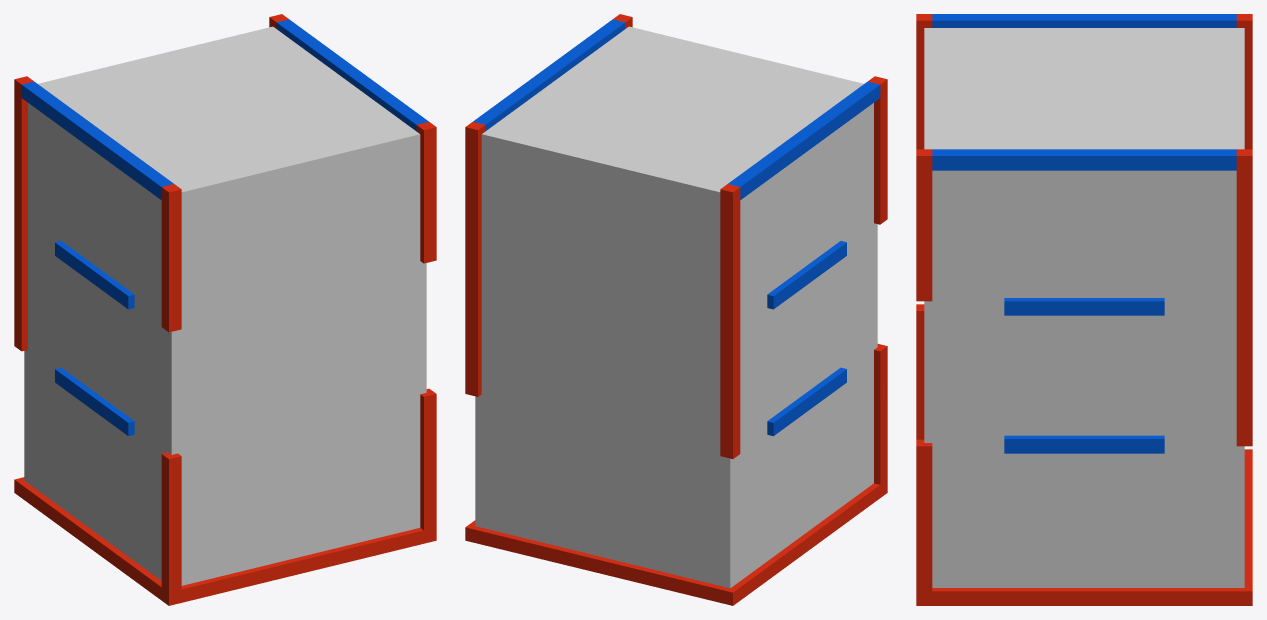
File: level_1.fbx
3 views of the same model, side by side, from view 1: azimuth 30°, elevation 25°; view 2: azimuth 150°, elevation 25°; view 3: azimuth 270°, elevation 25° (orthographic). The views are drawn at different scales.
Visible parts, largest first — view 1: 立方体.013; view 2: 立方体.013; view 3: 立方体.013.
Boxes of the visible parts, bbox=[...] form: 立方体.013: bbox=[14, 14, 436, 605]; 立方体.013: bbox=[465, 14, 887, 605]; 立方体.013: bbox=[916, 14, 1252, 605].
Size of the model in its own units: 420 by 620 by 420.
